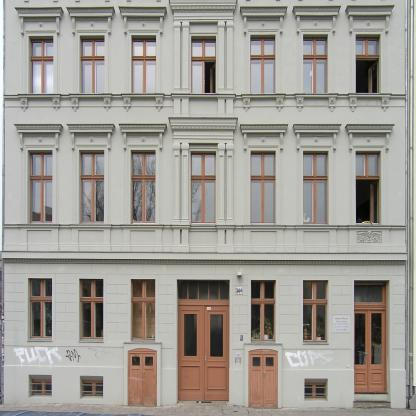Building Outline: (1, 0, 406, 409)
Cornice: (65, 6, 116, 38), (168, 117, 238, 140), (14, 6, 64, 38), (292, 5, 342, 37), (345, 5, 395, 37), (118, 6, 167, 38), (239, 5, 288, 37), (13, 123, 64, 153), (344, 123, 395, 153), (66, 123, 116, 153), (117, 123, 167, 153), (239, 124, 289, 154), (292, 123, 342, 153), (168, 0, 238, 17)
Door: (177, 303, 229, 402), (248, 348, 278, 408), (127, 348, 157, 406)
Facade: (1, 1, 406, 406)
Floor: (5, 127, 406, 251), (5, 0, 406, 115)
Floor Slab: (5, 115, 406, 128), (5, 251, 406, 263)
Ground Floor: (5, 264, 406, 406)
Molding: (1, 251, 408, 265)
Pillar: (172, 142, 190, 225), (217, 143, 234, 225), (217, 21, 234, 94), (173, 22, 189, 94)
Sill: (347, 92, 392, 113), (241, 93, 286, 113), (294, 93, 339, 113), (68, 93, 113, 112), (120, 93, 165, 112), (17, 93, 61, 112)
Window: (355, 150, 380, 223), (79, 150, 104, 223), (131, 150, 156, 223), (191, 150, 216, 223), (251, 150, 276, 223), (303, 150, 328, 223), (28, 150, 52, 223), (303, 280, 329, 343), (79, 279, 104, 342), (251, 280, 276, 343), (28, 278, 52, 341), (131, 279, 155, 342), (356, 34, 381, 93), (251, 35, 276, 94), (303, 35, 328, 94), (29, 36, 54, 94), (80, 35, 105, 93), (131, 35, 156, 93), (191, 36, 216, 94), (177, 280, 229, 303), (354, 280, 390, 305), (28, 374, 52, 398), (304, 378, 328, 402), (80, 375, 104, 399)
